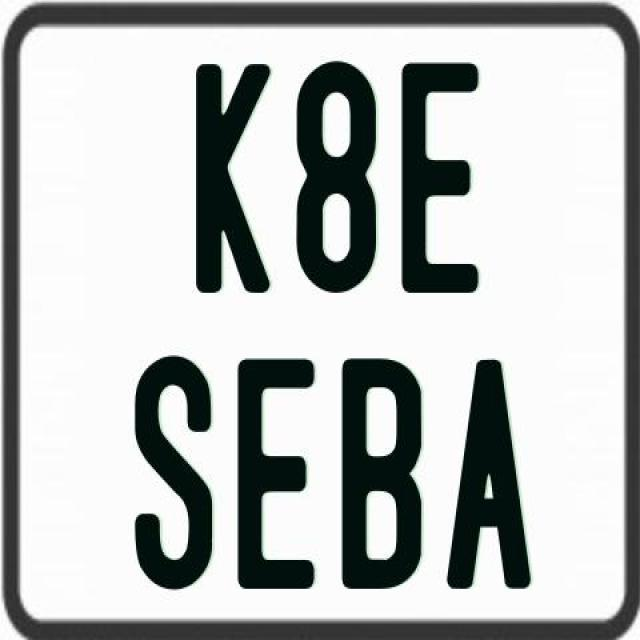8: (294, 58, 378, 294)
A: (442, 358, 530, 596)
B: (340, 358, 420, 590)
E: (236, 354, 320, 588), (398, 62, 478, 301)
K: (193, 64, 268, 296)
S: (130, 355, 210, 592)
